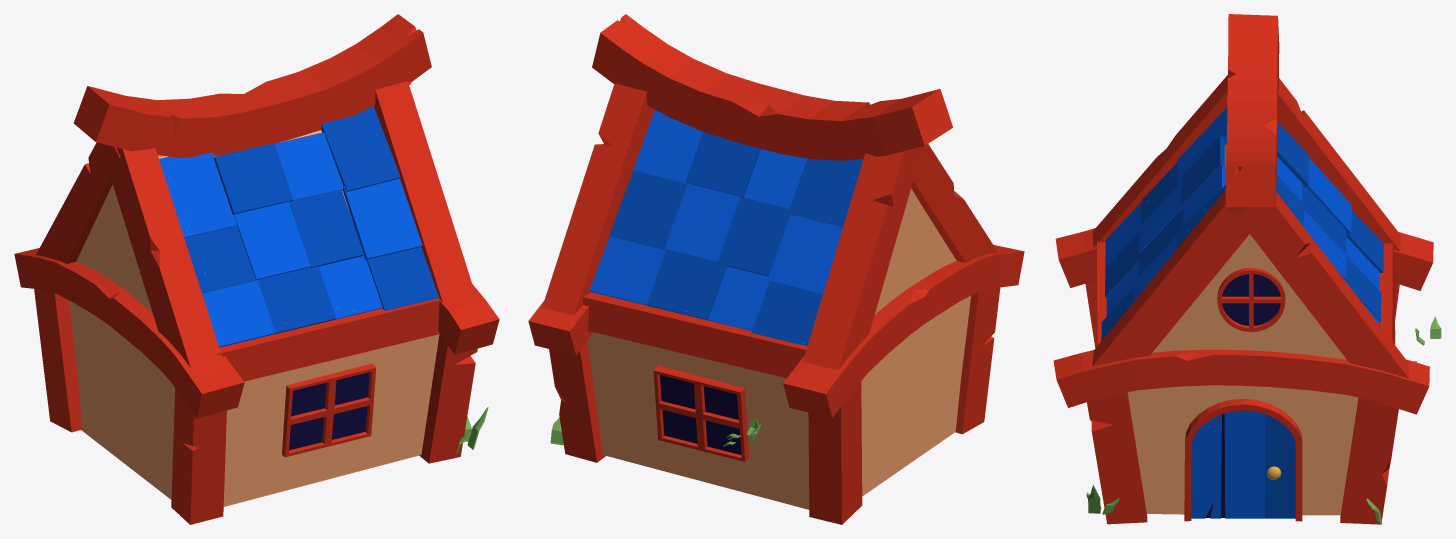
The model's file is casa.glb.
3 views of the same model, side by side, from view 1: azimuth 30°, elevation 25°; view 2: azimuth 150°, elevation 25°; view 3: azimuth 270°, elevation 25° (orthographic). The views are drawn at different scales.
Visible parts, largest first — view 1: PAREDES, Cubo.004, Cubo.007, Cubo.026, Cubo.008, Cubo.009, ventana.001, Cubo.013, Cubo.012, Cubo.003, Cubo.006, Cubo.035 (+12 smaller); view 2: PAREDES, Cubo.004, Cubo.006, Cubo.026, Cubo.005, Cubo.011, ventana, Cubo.012, Cubo.007, Cubo.002, Cubo.013, Cubo.015 (+12 smaller); view 3: PAREDES, Cubo.001, puerta, Cubo.005, Cubo.004, Cubo.008, Cubo.003, Cubo.002, Cubo.006, Cubo.007, Cubo.026, ventana circular (+24 smaller).
Part boxes in pixels (bbox=[...]): PAREDES: bbox=[68, 130, 439, 506]; Cubo.004: bbox=[73, 14, 431, 157]; Cubo.007: bbox=[110, 147, 222, 367]; Cubo.026: bbox=[14, 248, 244, 418]; Cubo.008: bbox=[374, 81, 475, 302]; Cubo.009: bbox=[216, 298, 440, 381]; ventana.001: bbox=[282, 363, 376, 457]; Cubo.013: bbox=[171, 388, 226, 524]; Cubo.012: bbox=[34, 289, 82, 432]; Cubo.003: bbox=[419, 333, 477, 463]; Cubo.006: bbox=[36, 142, 120, 263]; Cubo.035: bbox=[159, 152, 237, 237]; PAREDES: bbox=[587, 188, 970, 509]; Cubo.004: bbox=[592, 14, 952, 160]; Cubo.006: bbox=[803, 147, 922, 370]; Cubo.026: bbox=[783, 245, 1024, 418]; Cubo.005: bbox=[542, 83, 654, 315]; Cubo.011: bbox=[582, 292, 807, 378]; ventana: bbox=[653, 365, 748, 461]; Cubo.012: bbox=[808, 381, 862, 524]; Cubo.007: bbox=[911, 144, 997, 262]; Cubo.002: bbox=[549, 341, 605, 462]; Cubo.013: bbox=[955, 287, 1000, 434]; Cubo.015: bbox=[767, 214, 842, 294]; PAREDES: bbox=[1127, 144, 1358, 515]; Cubo.001: bbox=[1053, 349, 1429, 414]; puerta: bbox=[1184, 398, 1302, 521]; Cubo.005: bbox=[1224, 192, 1408, 378]; Cubo.004: bbox=[1225, 14, 1279, 207]; Cubo.008: bbox=[1092, 190, 1249, 366]; Cubo.003: bbox=[1087, 392, 1147, 524]; Cubo.002: bbox=[1340, 398, 1398, 524]; Cubo.006: bbox=[1277, 78, 1400, 251]; Cubo.007: bbox=[1092, 75, 1227, 247]; Cubo.026: bbox=[1055, 228, 1433, 290]; ventana circular: bbox=[1217, 267, 1285, 331].
Bounding box in the file's own units: 1.96 × 2.13 × 2.01.
